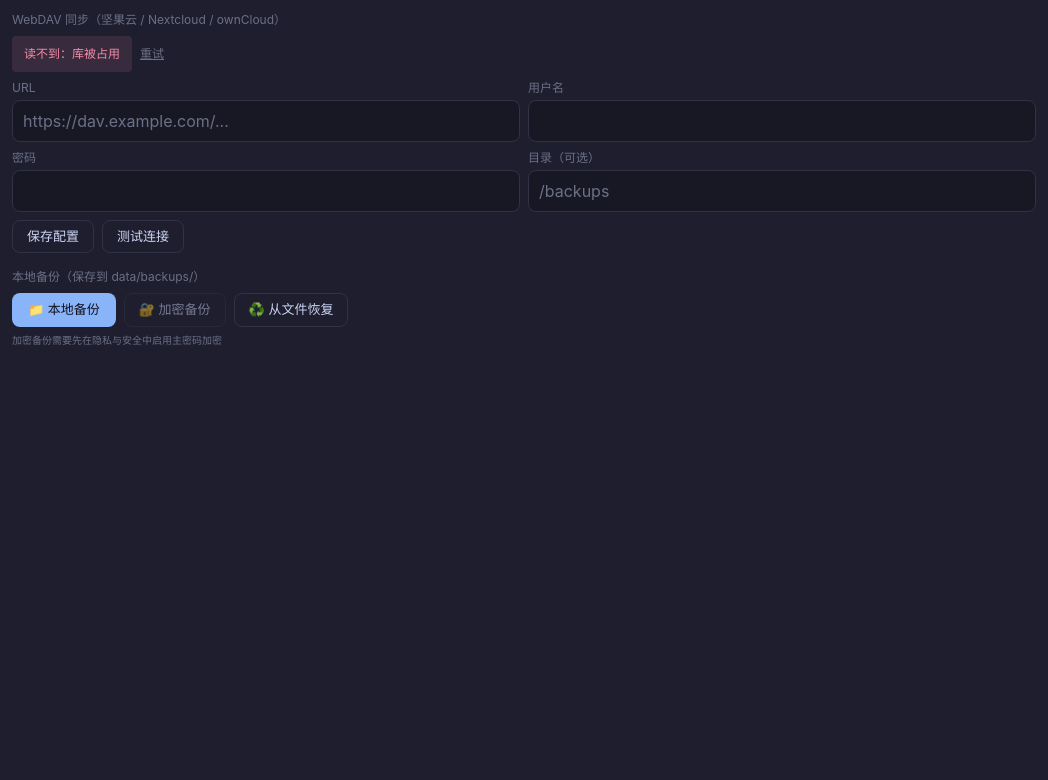
Scenario: 设置页·备份：配置读不到 ⇒ 同步卡片与那颗「刷新」整块不出现，而「保存」会把这份空表单写回去 › 失败脸有键 ⇒ 按下去真多发一发 loadWebDAVConfig ⇒ 到货后那句收回、库地址回填进表单
Expected: the text "🔄 刷新列表" is not shown
Click the button with test id "webdav-cfg-read-retry" at (152, 54), box [140, 46, 164, 62]
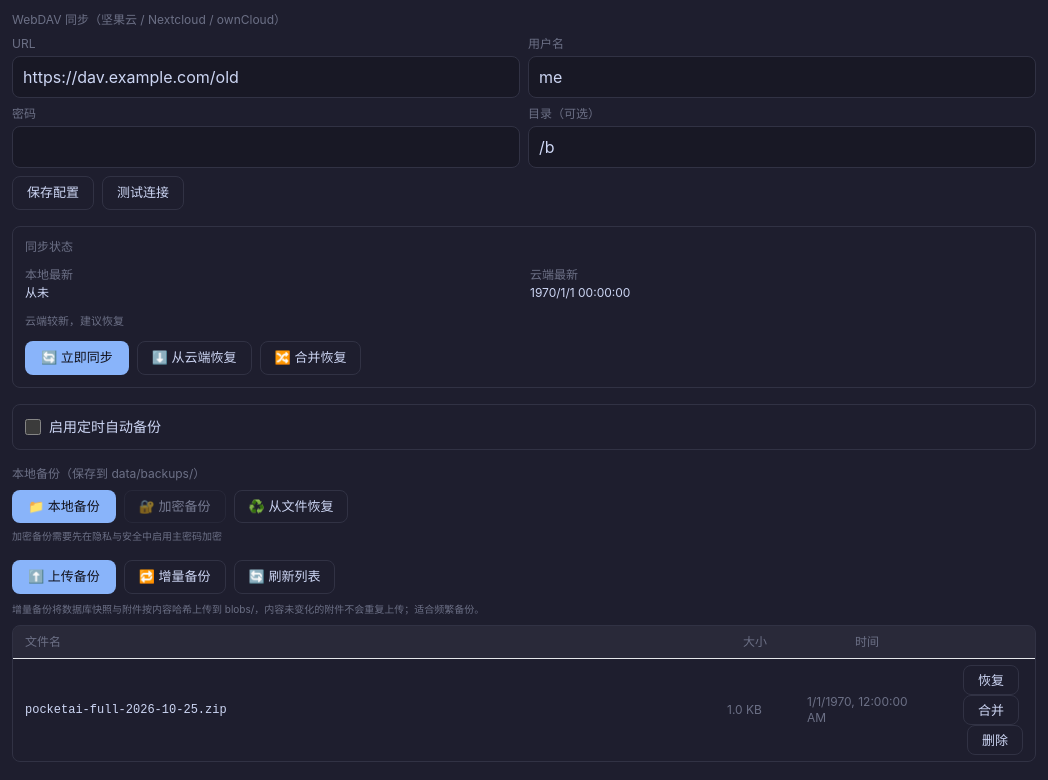
Now the button with test id "webdav-cfg-read-retry" is gone
Now the field with placeholder "https://dav.example.com/..." below "URL" holds "https://dav.example.com/old", box [12, 56, 520, 98]
